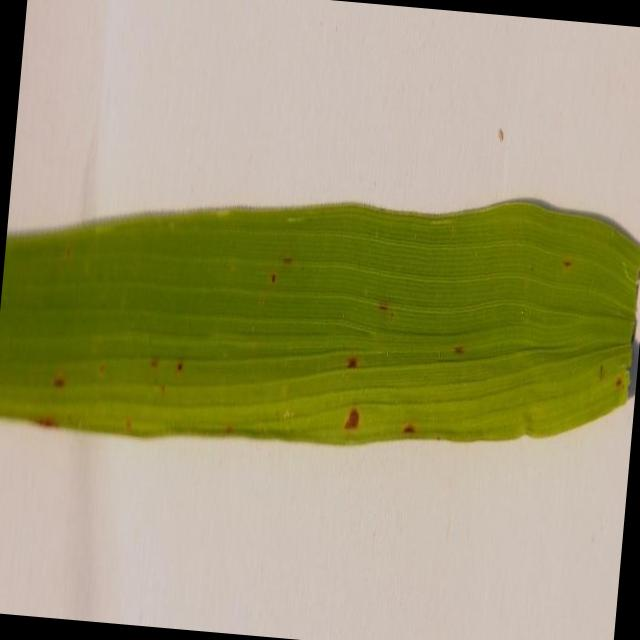Rice_Brownspot: (328, 309, 382, 442), (264, 226, 300, 292), (141, 349, 191, 384), (397, 390, 420, 454), (448, 330, 474, 367), (49, 354, 67, 401)
